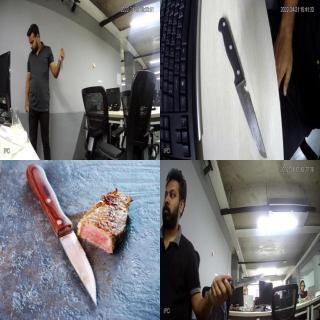knife: (26, 166, 98, 304), (220, 18, 268, 159), (229, 274, 265, 290), (60, 53, 64, 71)
